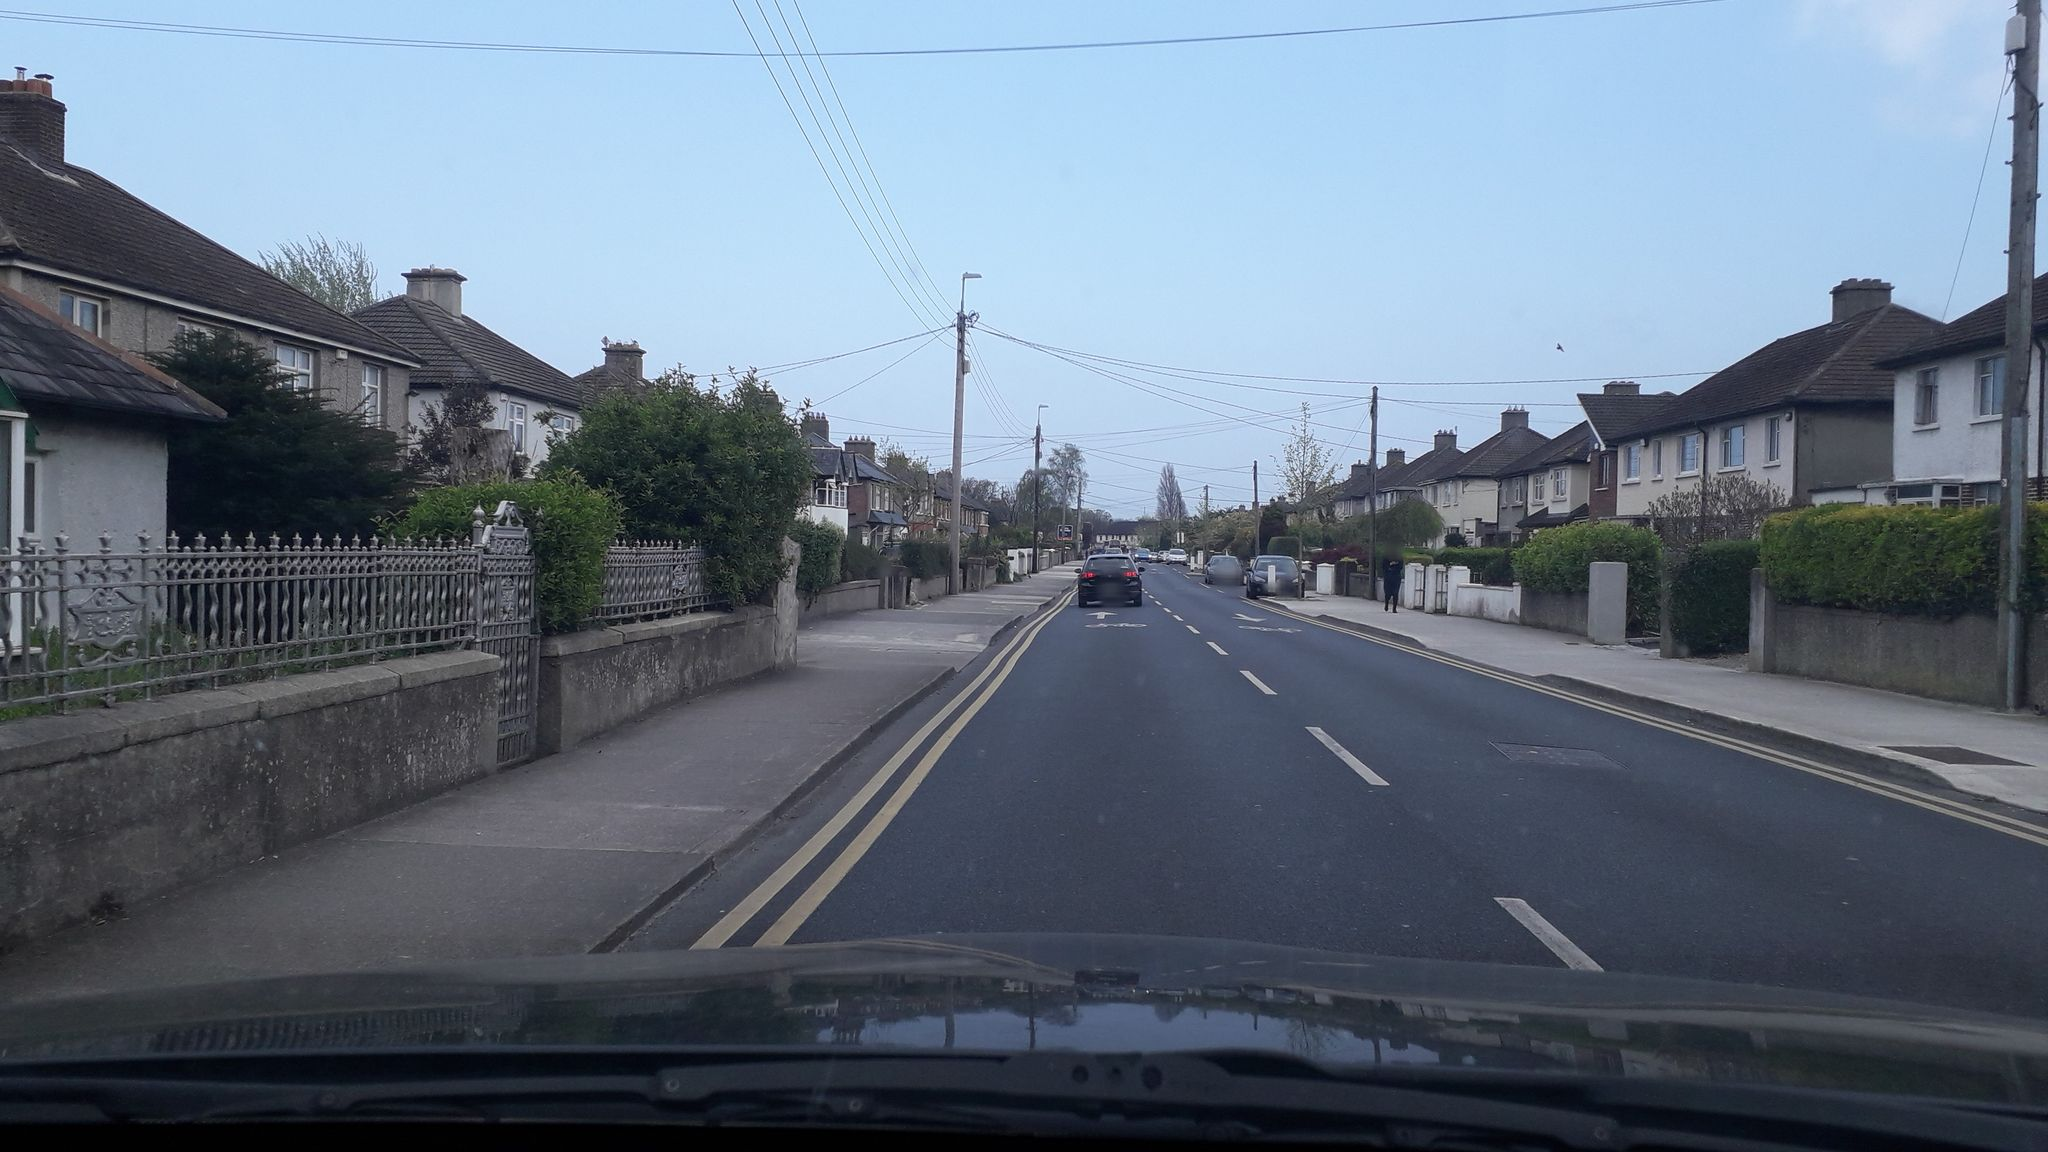property sign: (1054, 512, 1075, 549)
